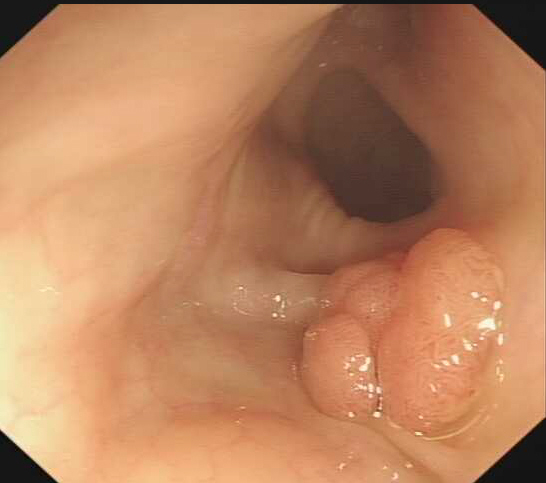adenoma: (294, 225, 509, 436)
